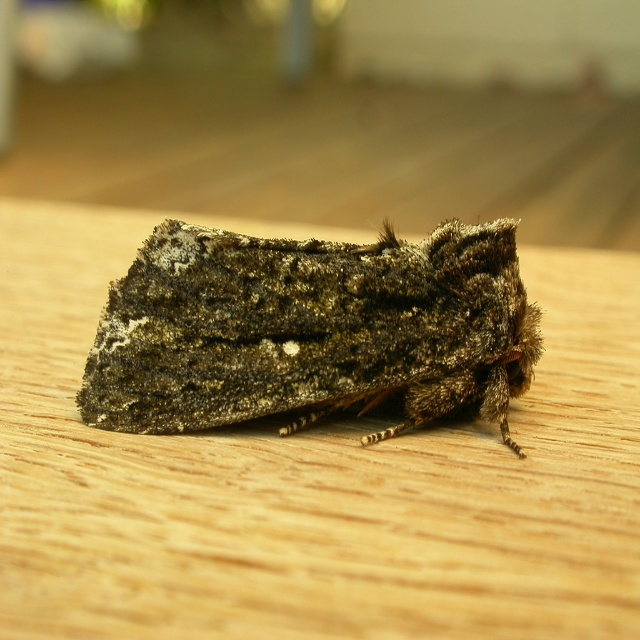Moths and butterflies: (74, 215, 546, 462)
